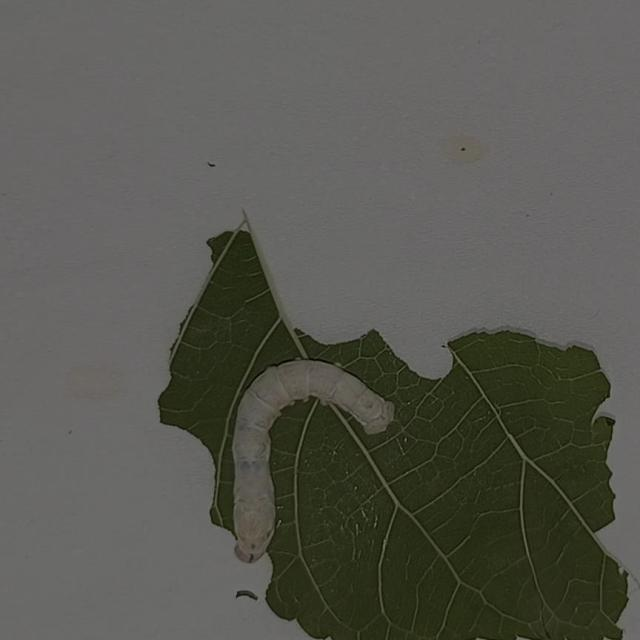Healthy: (220, 347, 399, 568)
